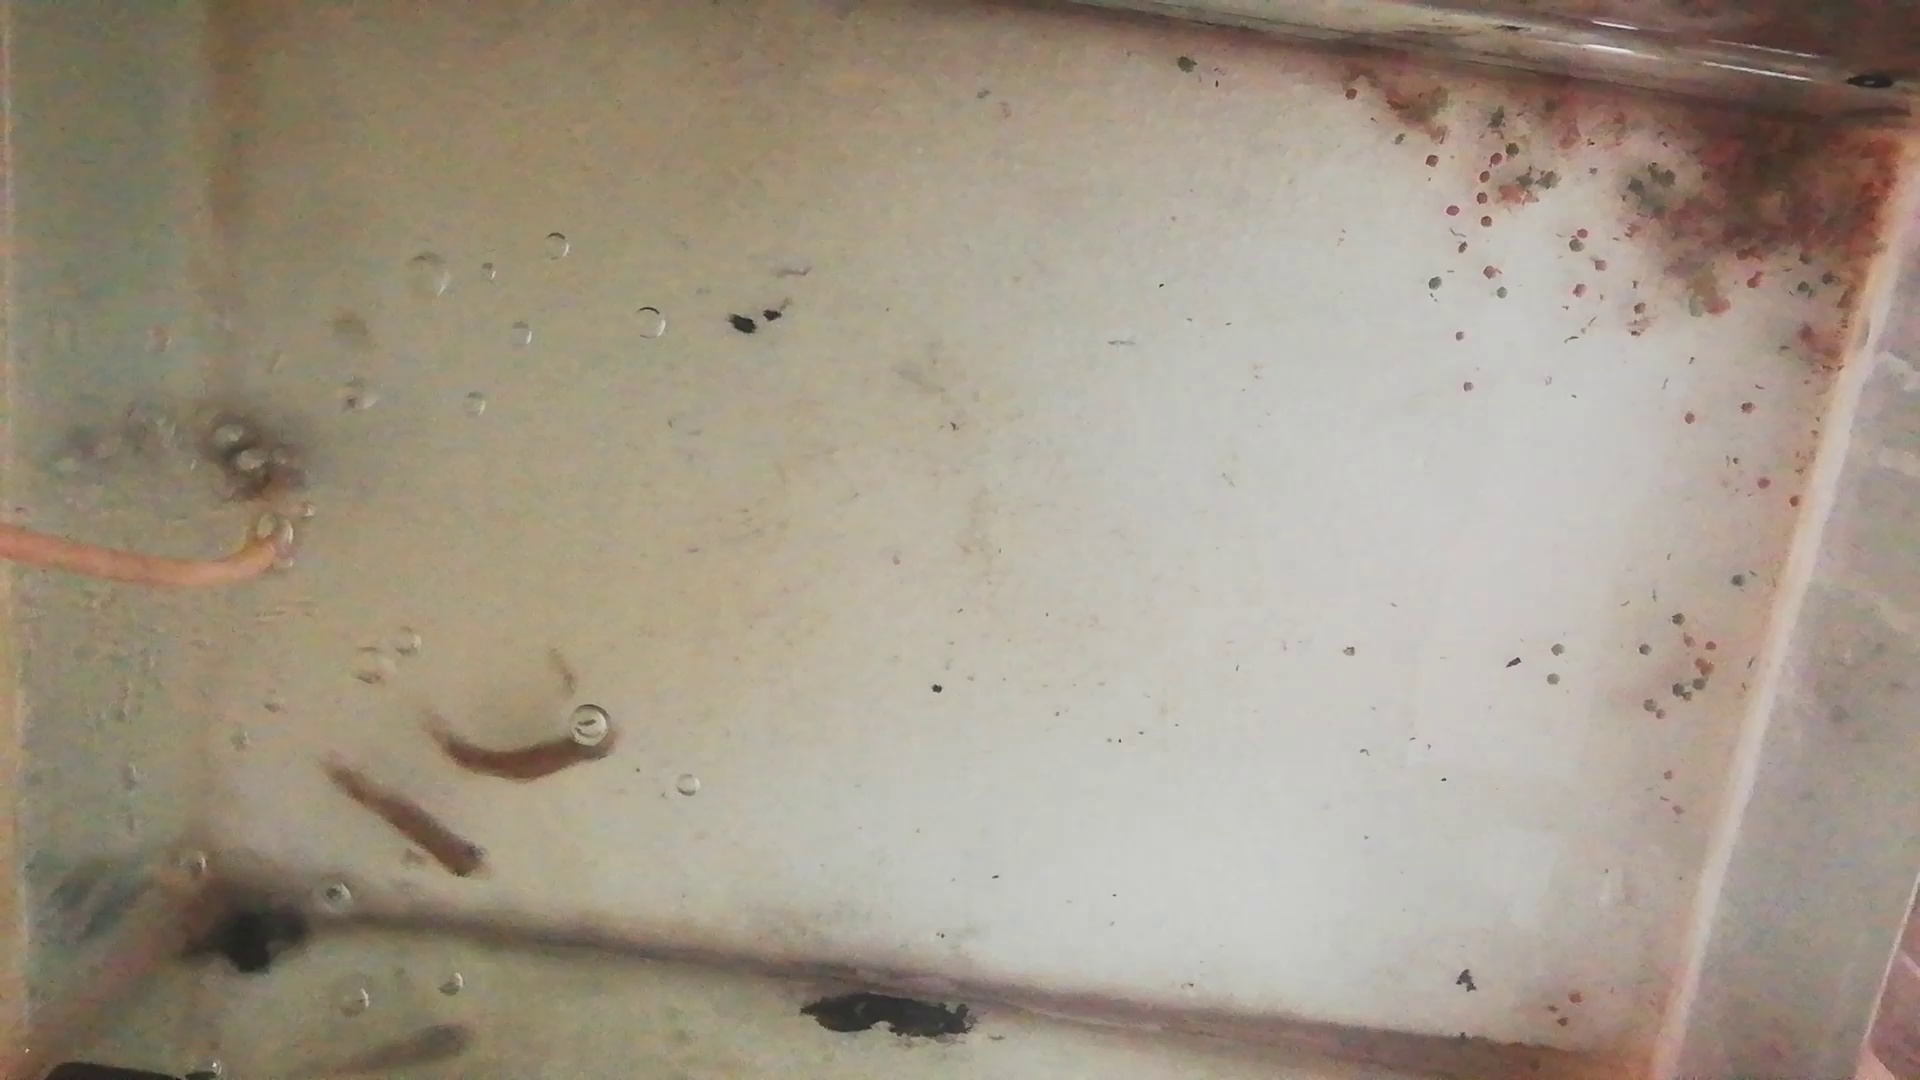fish: (324, 760, 493, 880), (435, 724, 618, 783)
